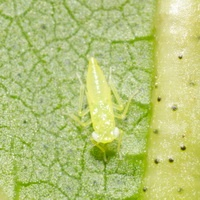insect: (64, 57, 138, 163)
